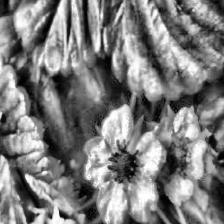Blossom Blight: (105, 137, 142, 186), (163, 136, 195, 180)
